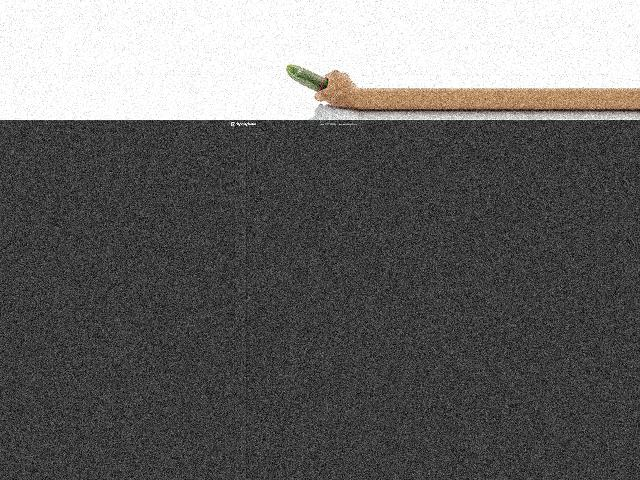cucumber: (286, 64, 328, 91)
